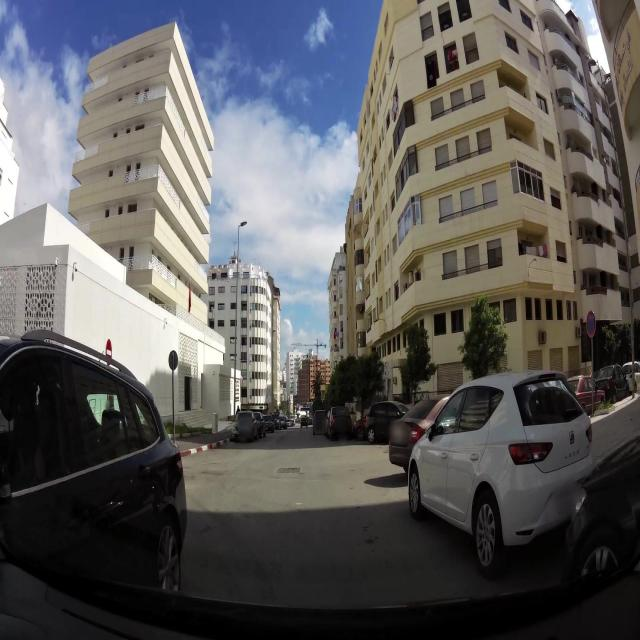forb_stopping: (586, 310, 595, 337)
